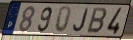0: (54, 6, 73, 34)
4: (105, 7, 123, 36)
8: (19, 5, 36, 33)
9: (38, 6, 53, 33)
B: (86, 7, 109, 35)
J: (72, 8, 90, 33)
